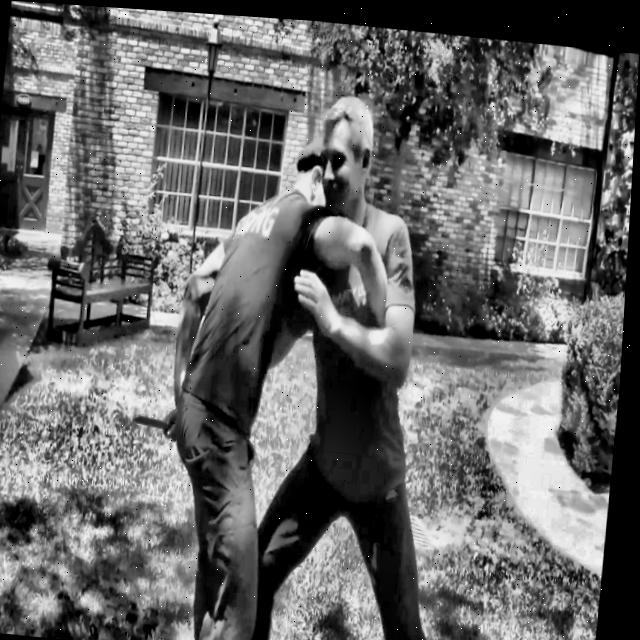robbery: (105, 20, 498, 640)
